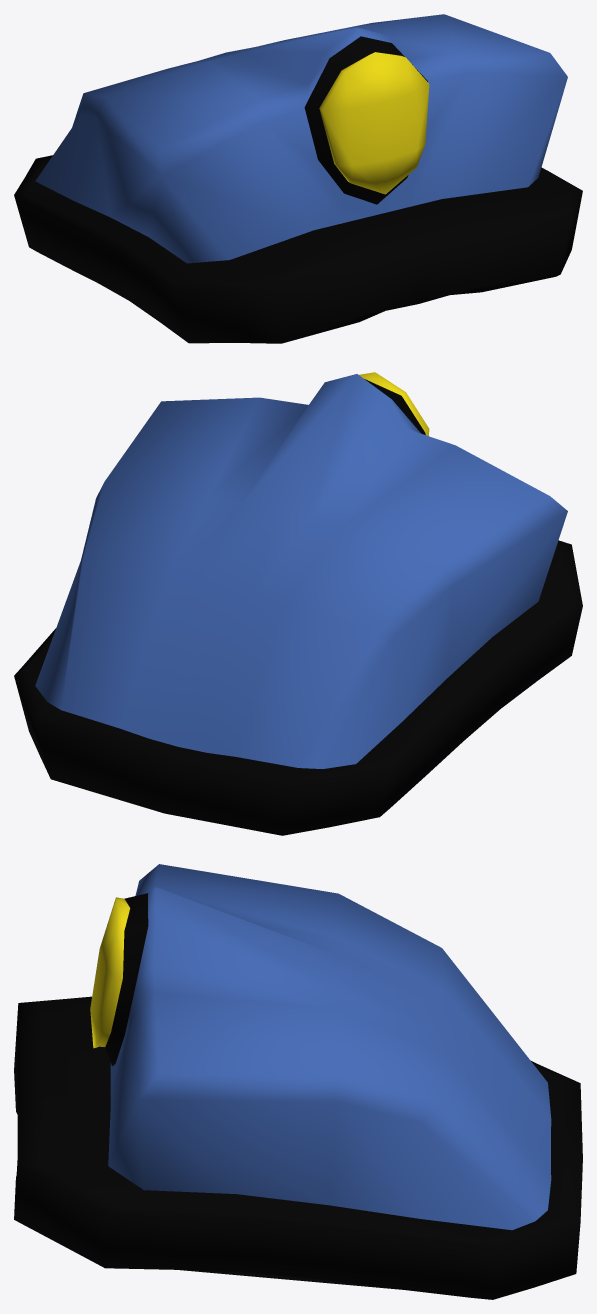
The model's file is Hat_Guardian.fbx.
The picture shows the model from 3 angles, top to bottom: view 1: azimuth 30°, elevation 25°; view 2: azimuth 150°, elevation 25°; view 3: azimuth 270°, elevation 25°; orthographic projection. The views are drawn at different scales.
Visible parts, largest first — view 1: Hat_Guardian; view 2: Hat_Guardian; view 3: Hat_Guardian.
Boxes of the visible parts, x1=… form: Hat_Guardian: x1=14, y1=14, x2=582, y2=343; Hat_Guardian: x1=14, y1=372, x2=582, y2=835; Hat_Guardian: x1=14, y1=864, x2=582, y2=1299.
Bounding box in the file's own units: 53.71 × 37.68 × 58.66.
